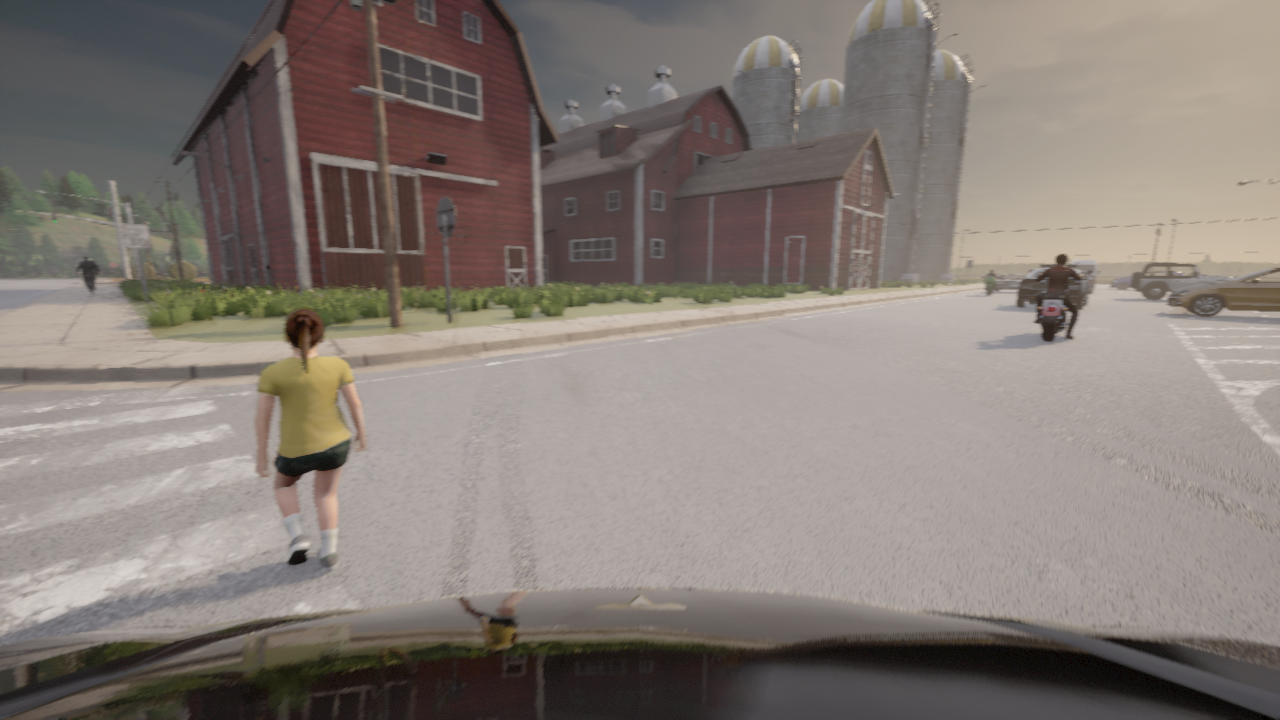cyclist: (0, 588, 1279, 719), (1166, 268, 1279, 316), (1130, 262, 1235, 299), (1016, 264, 1093, 309), (1036, 272, 1085, 340), (1071, 260, 1099, 283), (992, 274, 1025, 292), (1081, 270, 1096, 293), (1110, 276, 1131, 289), (982, 276, 995, 295)
pedestrian: (255, 309, 366, 572), (76, 255, 98, 294)
